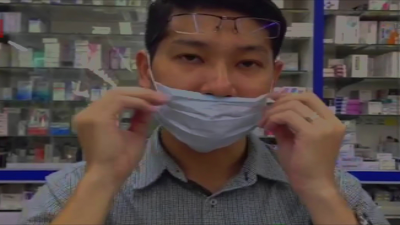mask_weared_incorrect: (150, 37, 277, 154)
